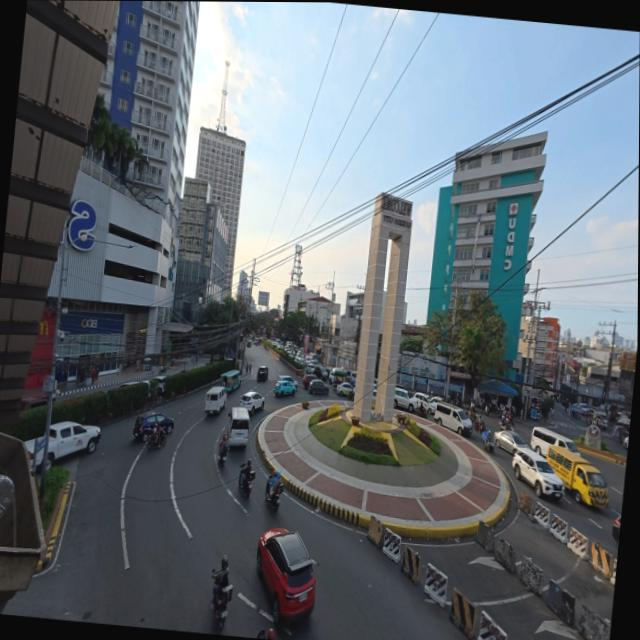car: (251, 524, 324, 633), (509, 446, 571, 499), (486, 429, 523, 458), (392, 385, 421, 410), (270, 376, 296, 398), (242, 389, 267, 410), (305, 378, 329, 396)
trucks: (23, 416, 102, 471)
vans: (431, 405, 477, 438), (199, 386, 225, 419)
